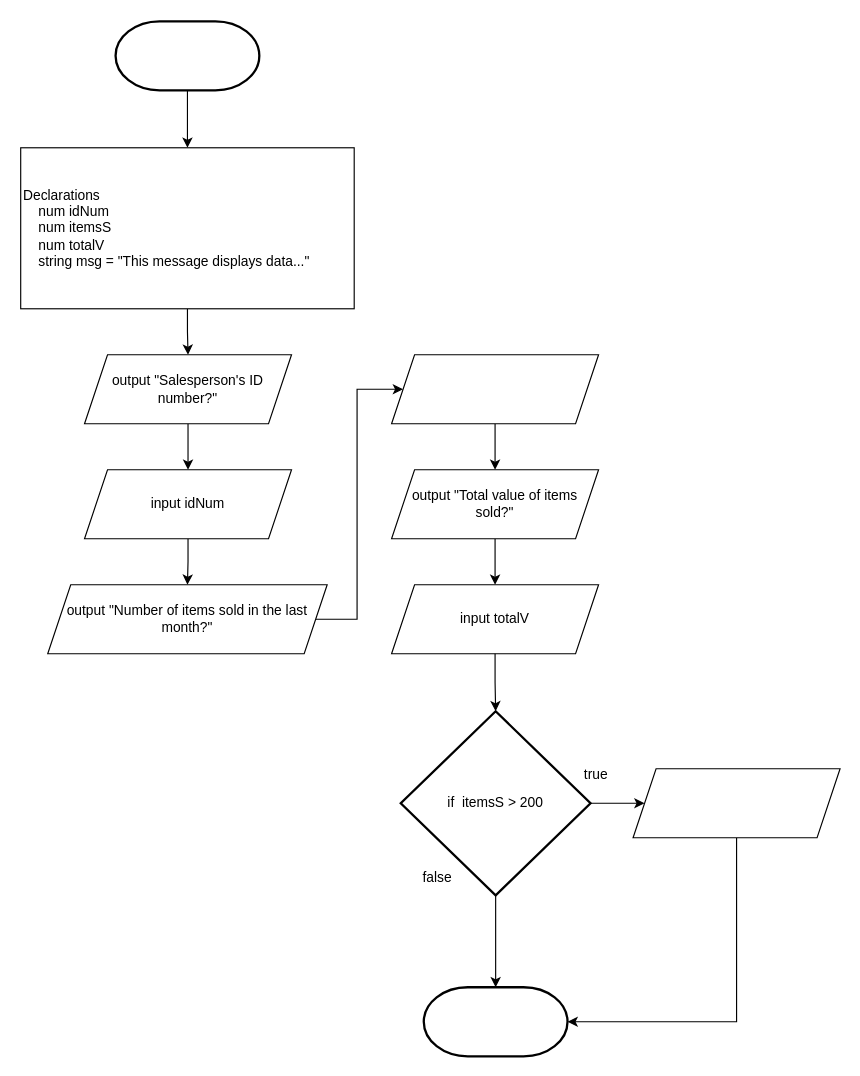
The diagram is 860 pixels wide and 1076 high, and some of its shapes have lost their labels. The centre of each missing label's shape, as x and y in pixels:
end: [495,1021]
input itemsS: [494,389]
output msg: [736,803]
Start: [187,55]
